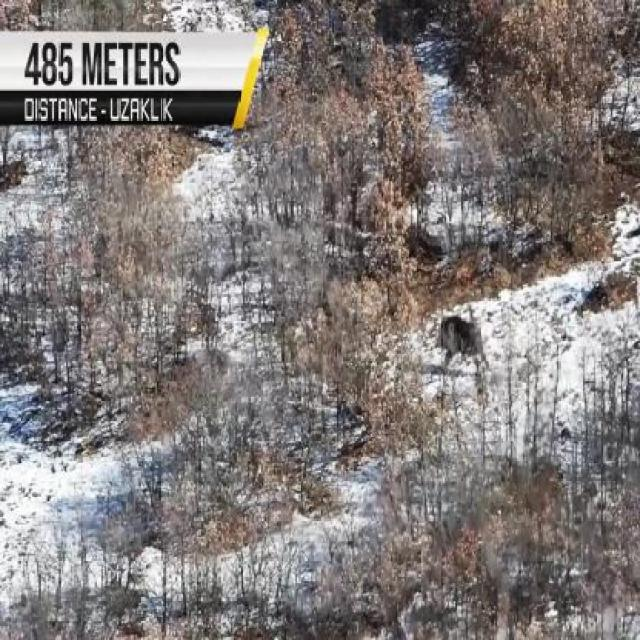pig: (424, 295, 502, 408)
